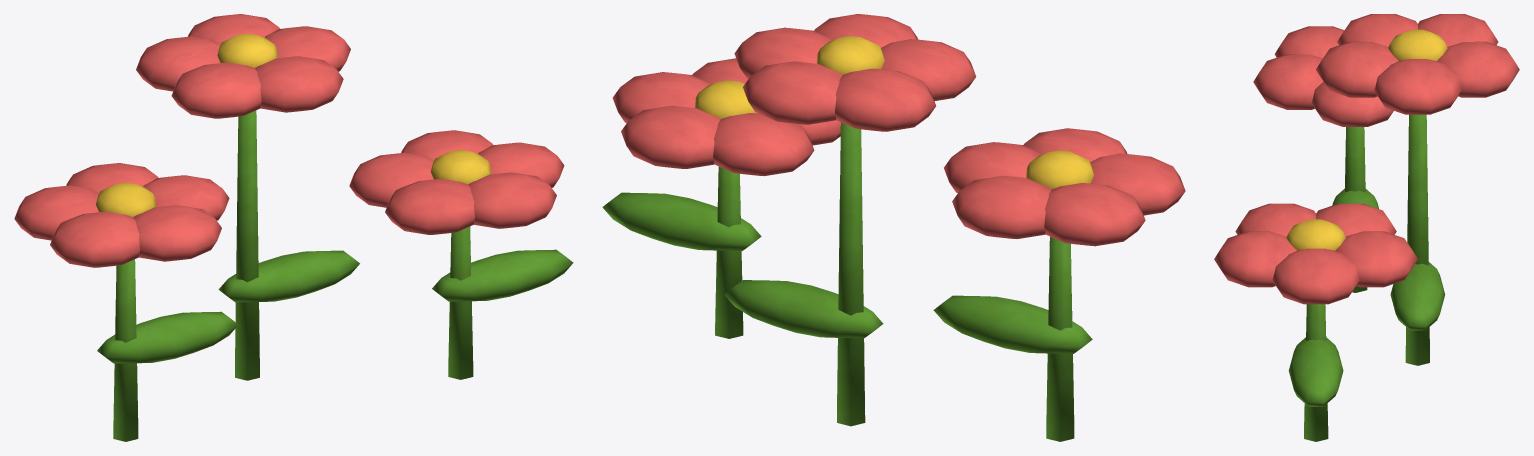
Rendered from prop_flowers.glb.
3 views of the same model, side by side, from view 1: azimuth 30°, elevation 25°; view 2: azimuth 150°, elevation 25°; view 3: azimuth 270°, elevation 25° (orthographic). The views are drawn at different scales.
Visible parts, largest first — view 1: prop_flowers; view 2: prop_flowers; view 3: prop_flowers.
Part boxes in pixels (x1,y1,x2,y2): prop_flowers: [14, 14, 573, 441]; prop_flowers: [602, 14, 1185, 441]; prop_flowers: [1214, 14, 1519, 441].
Bounding box in the file's own units: 0.7286 × 0.46 × 0.3907.
1 material, 1 textured.
